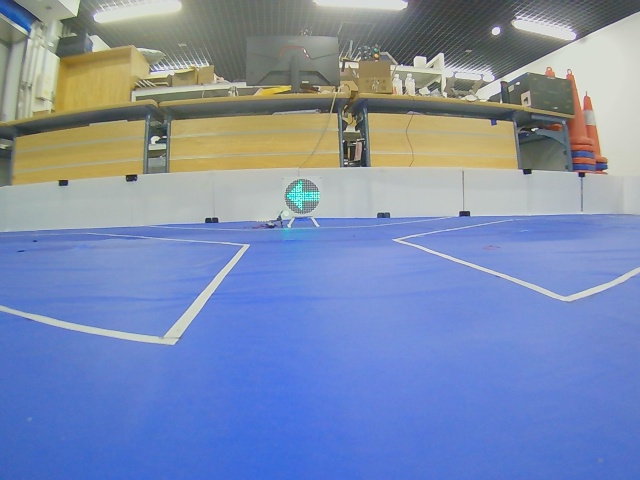left_green: (285, 179, 320, 214)
